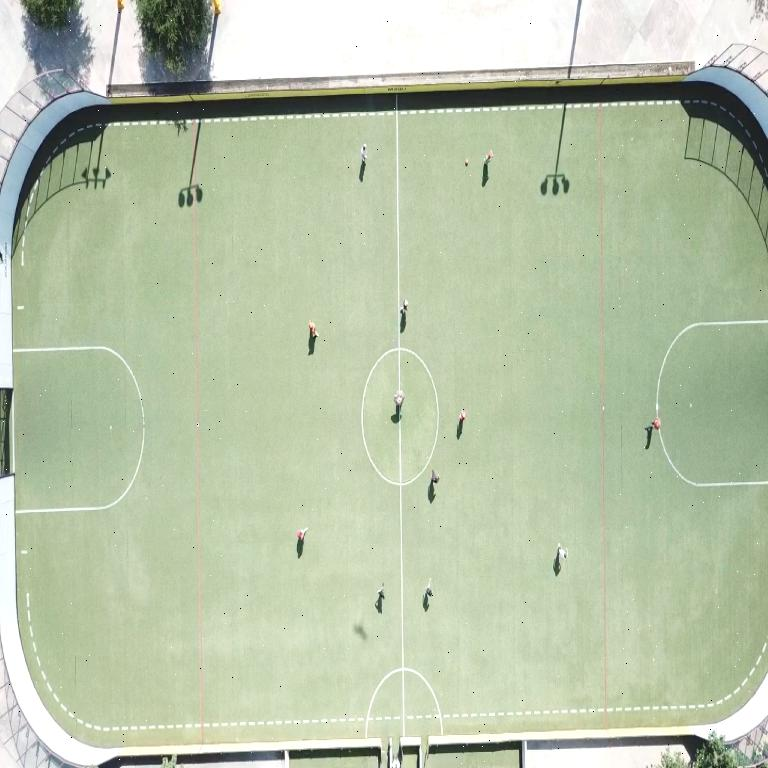AC: (13, 346, 144, 514), (655, 319, 767, 417)
B: (466, 157, 469, 165)
MC: (397, 414, 404, 735)
P: (645, 418, 659, 449), (393, 390, 403, 410), (296, 527, 307, 542), (557, 543, 566, 559), (309, 320, 317, 338), (424, 580, 431, 599), (376, 583, 383, 601), (360, 144, 366, 164), (430, 470, 438, 485), (399, 300, 407, 315), (484, 151, 491, 165), (460, 411, 466, 422)
